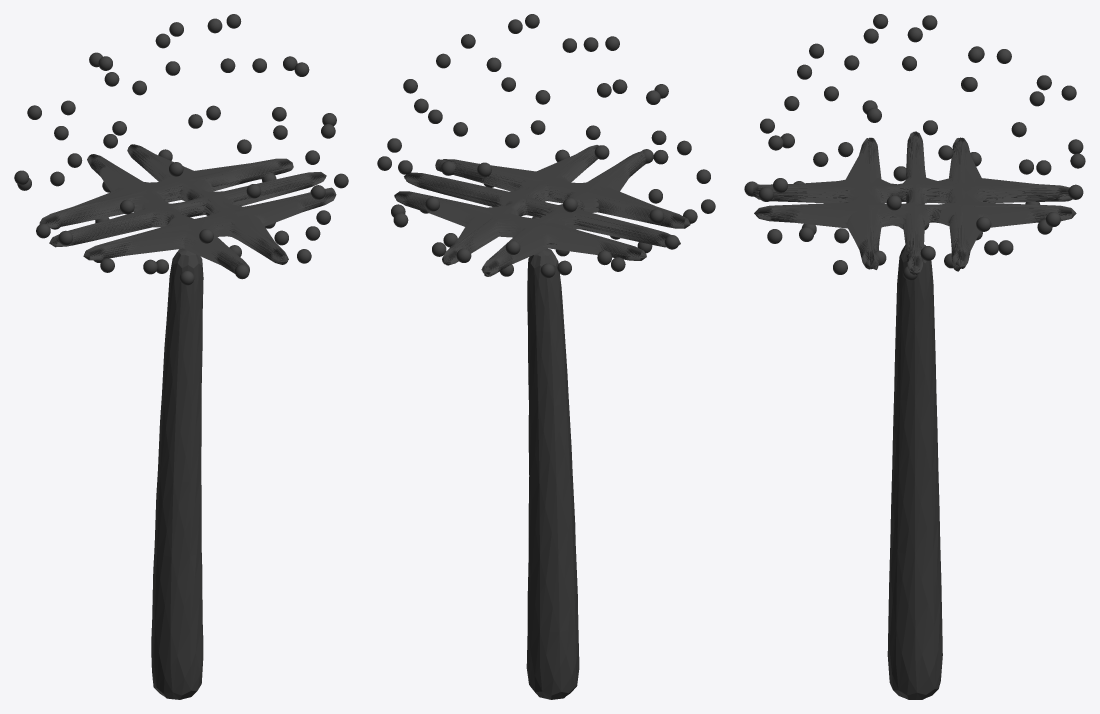
The model's file is tmp_oak.glb.
The picture shows the model from 3 angles, left to right: view 1: azimuth 30°, elevation 25°; view 2: azimuth 150°, elevation 25°; view 3: azimuth 270°, elevation 25°; orthographic projection. The views are drawn at different scales.
Parts seen in each view (by area): view 1: body; view 2: body; view 3: body.
Part boxes in pixels (x1,y1,x2,y2): body: [14, 14, 348, 699]; body: [377, 14, 715, 699]; body: [744, 14, 1085, 699].
Bounding box in the file's own units: 272 × 598 × 270.
Materials: 1 (1 with a texture image).
